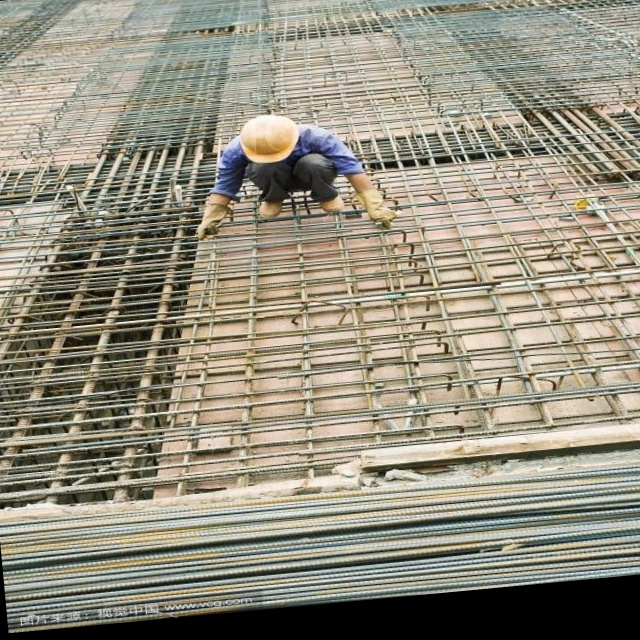Con_Casco: (238, 112, 303, 166)
